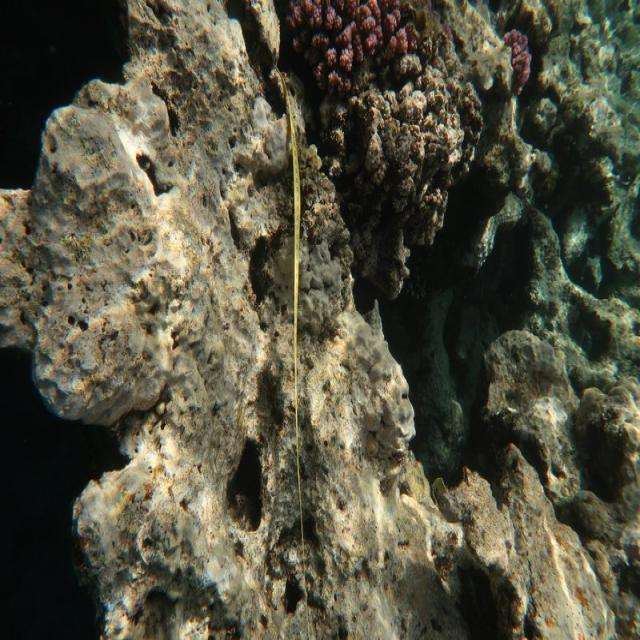Healthy Coral: (279, 0, 427, 99)
